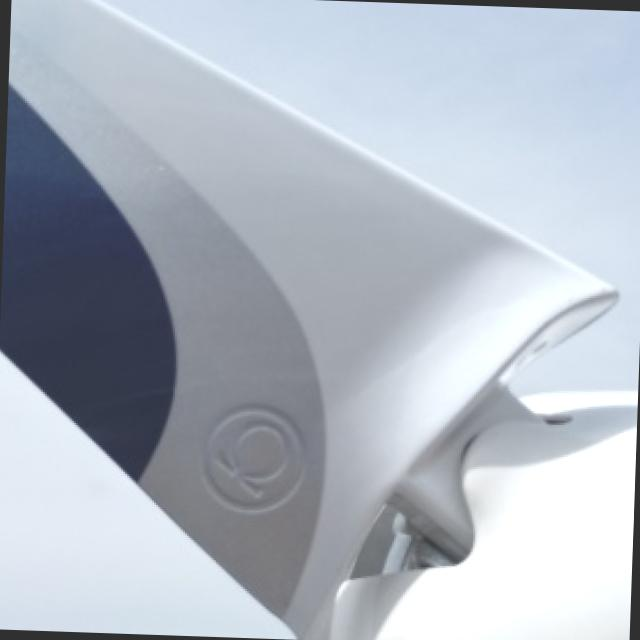healthy: (0, 0, 634, 640)
